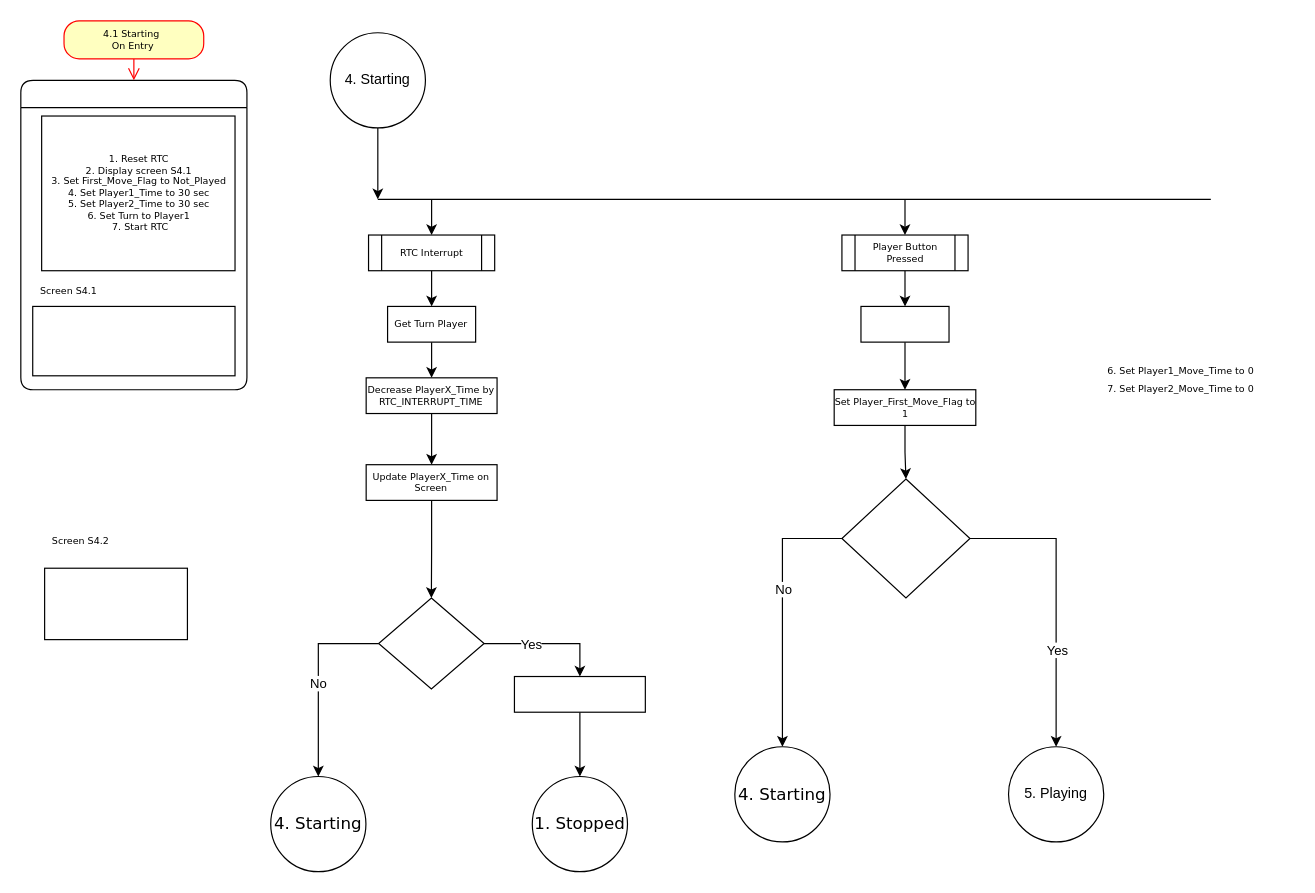
Some shapes in this 1315 by 893 pixel diagram are drawn without their labels. The centre of each missing label's shape, as x and y in pixels:
Both Players Played First Move?: (905,538)
Display S4.2: (579,693)
Get Player: (904,323)
Player 1 Player 2 30 Sec 30 Sec: (133,340)
Player Lost on First Move: (115,603)
Player Time <= 0?: (430,643)
